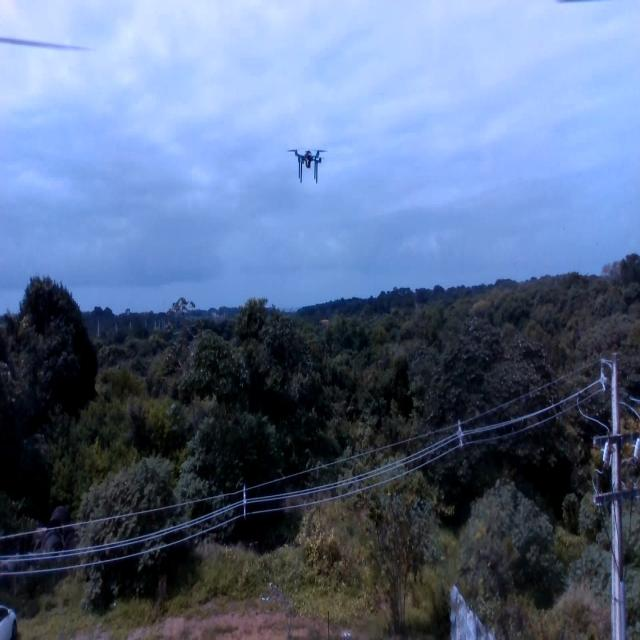-uav-: (284, 140, 332, 192)
